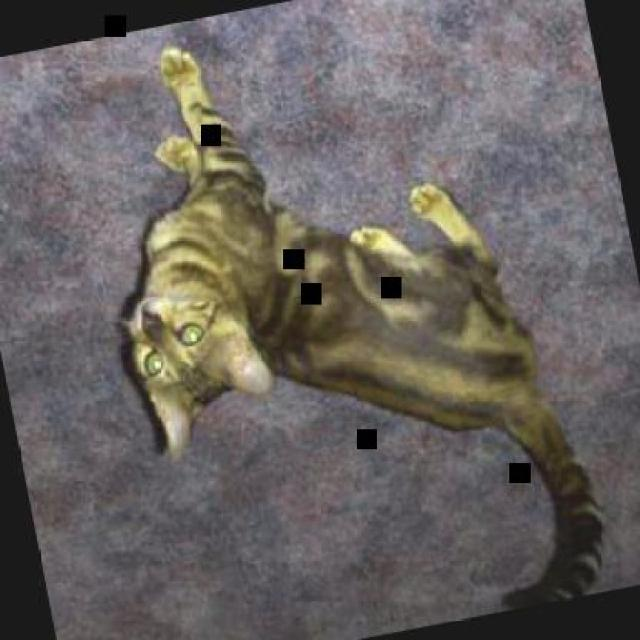cat: (70, 0, 621, 638)
